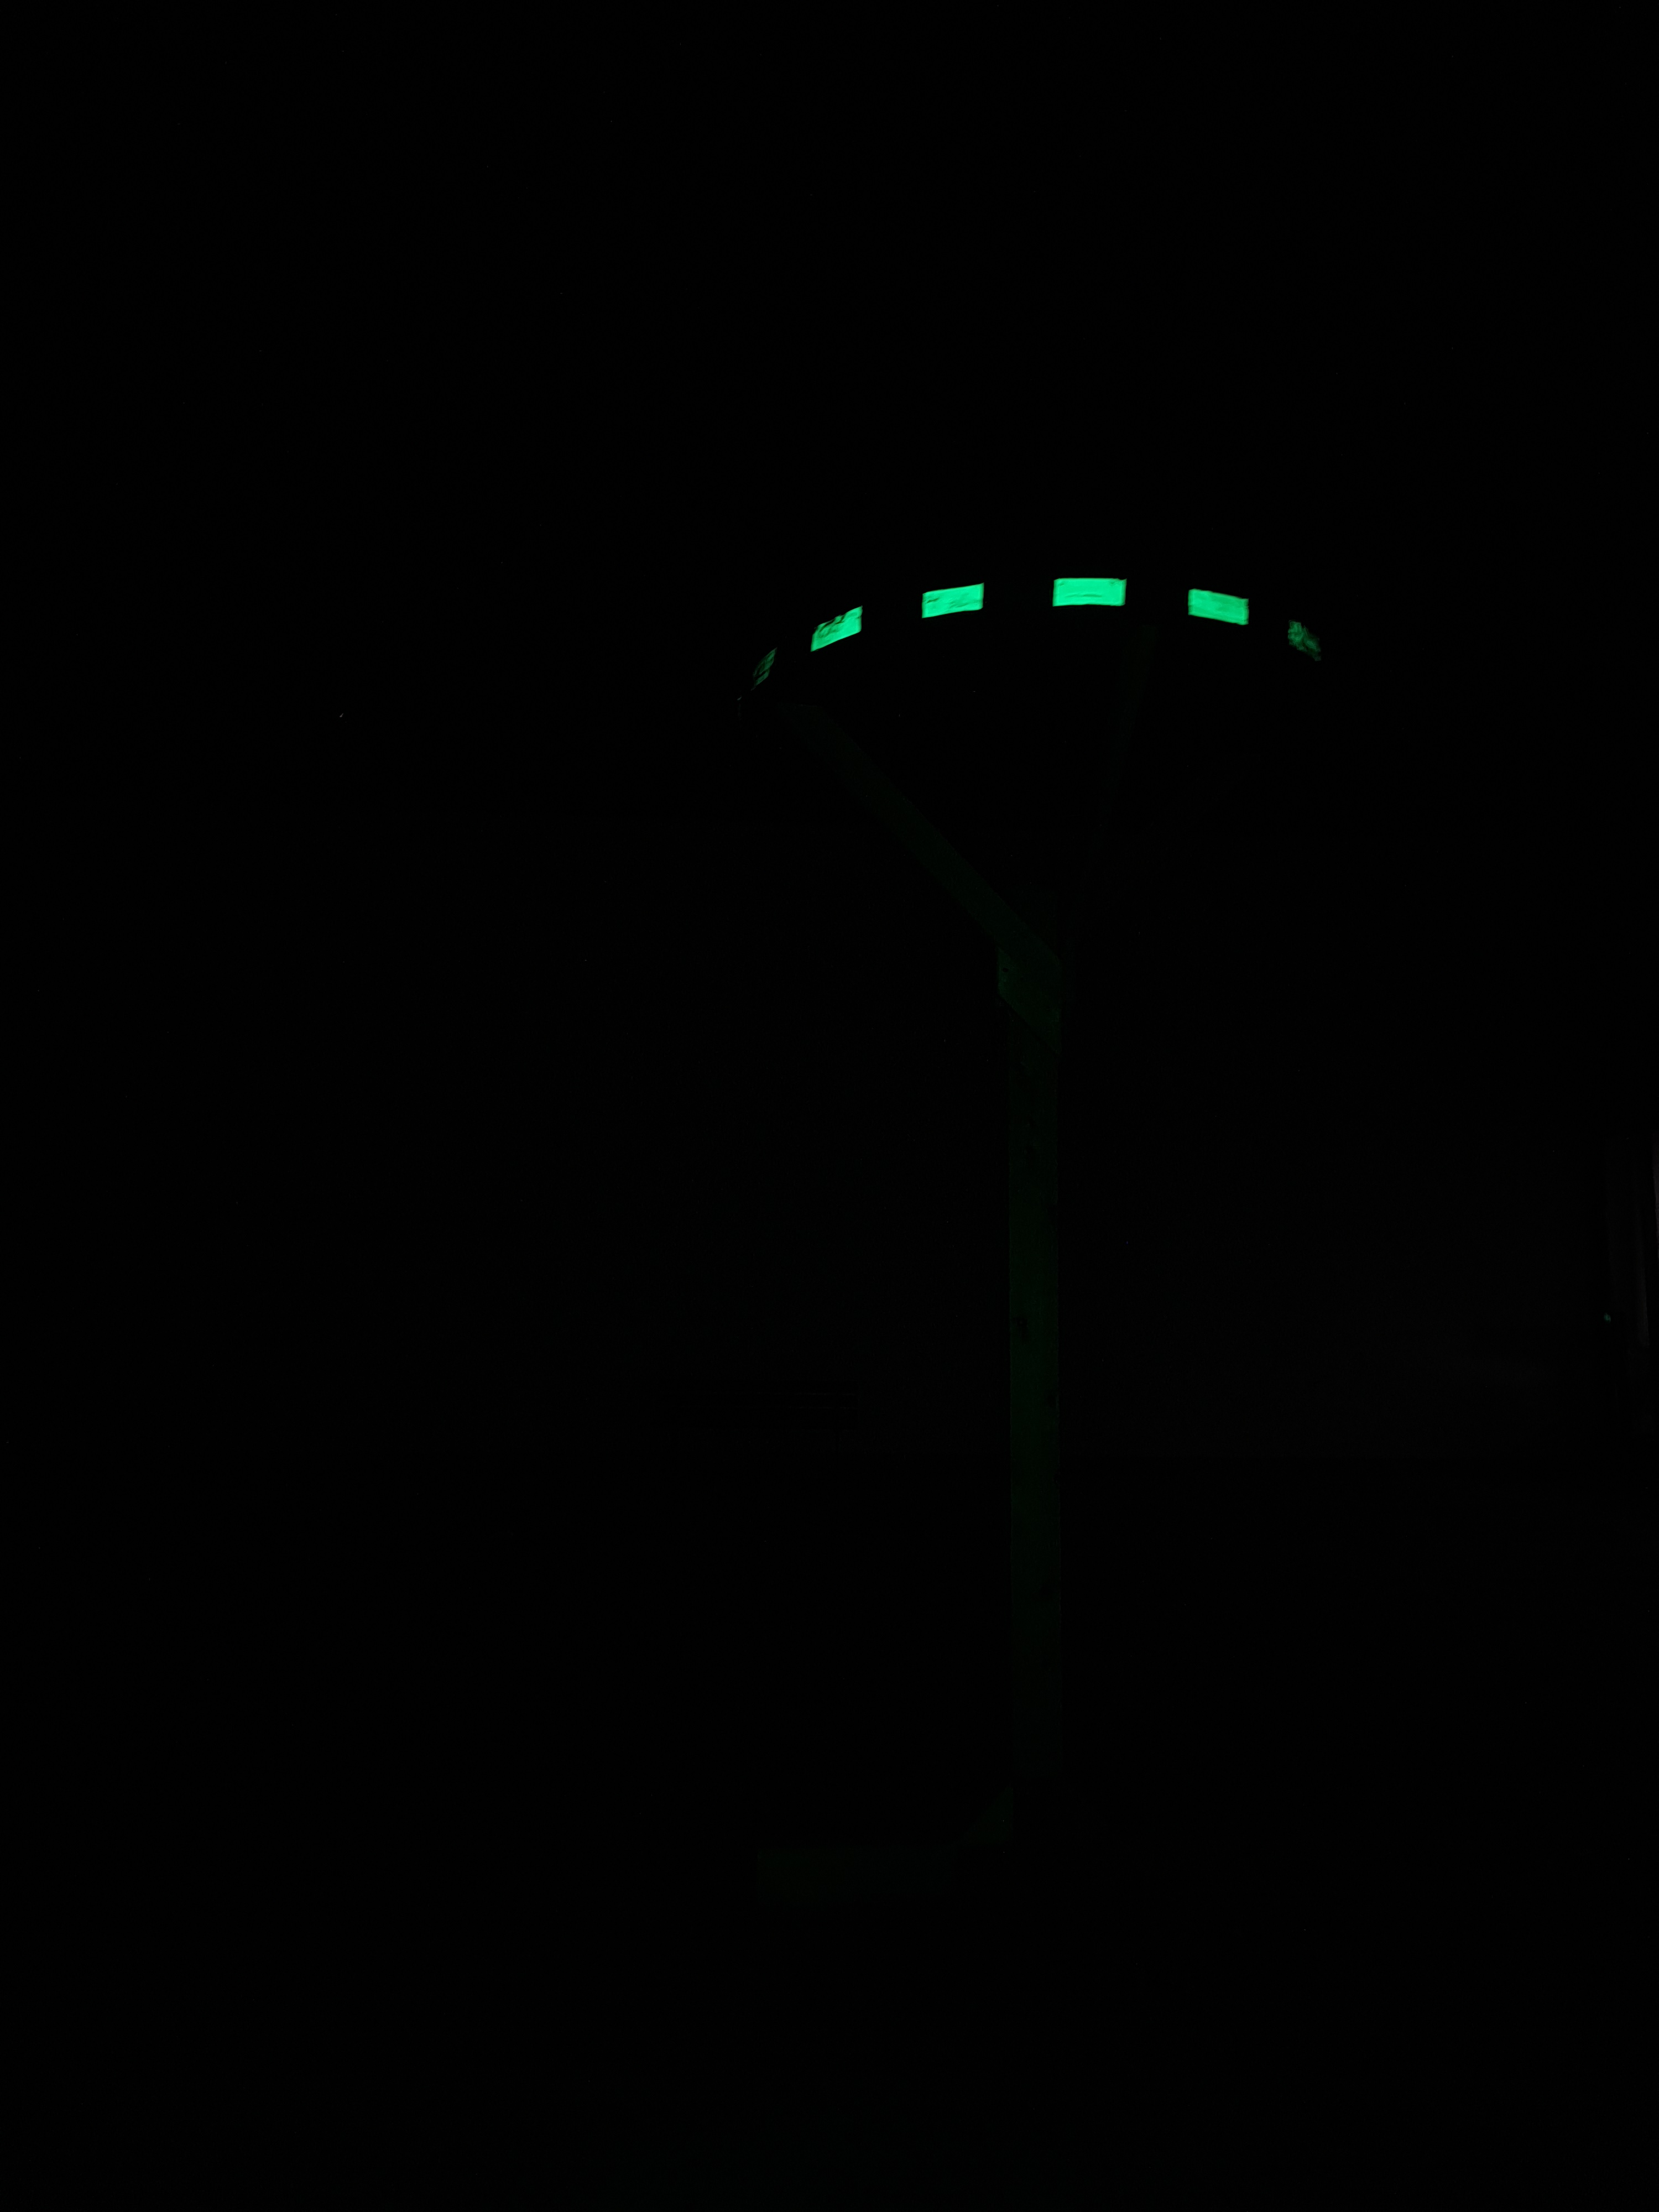hoop: (798, 577, 1324, 660)
